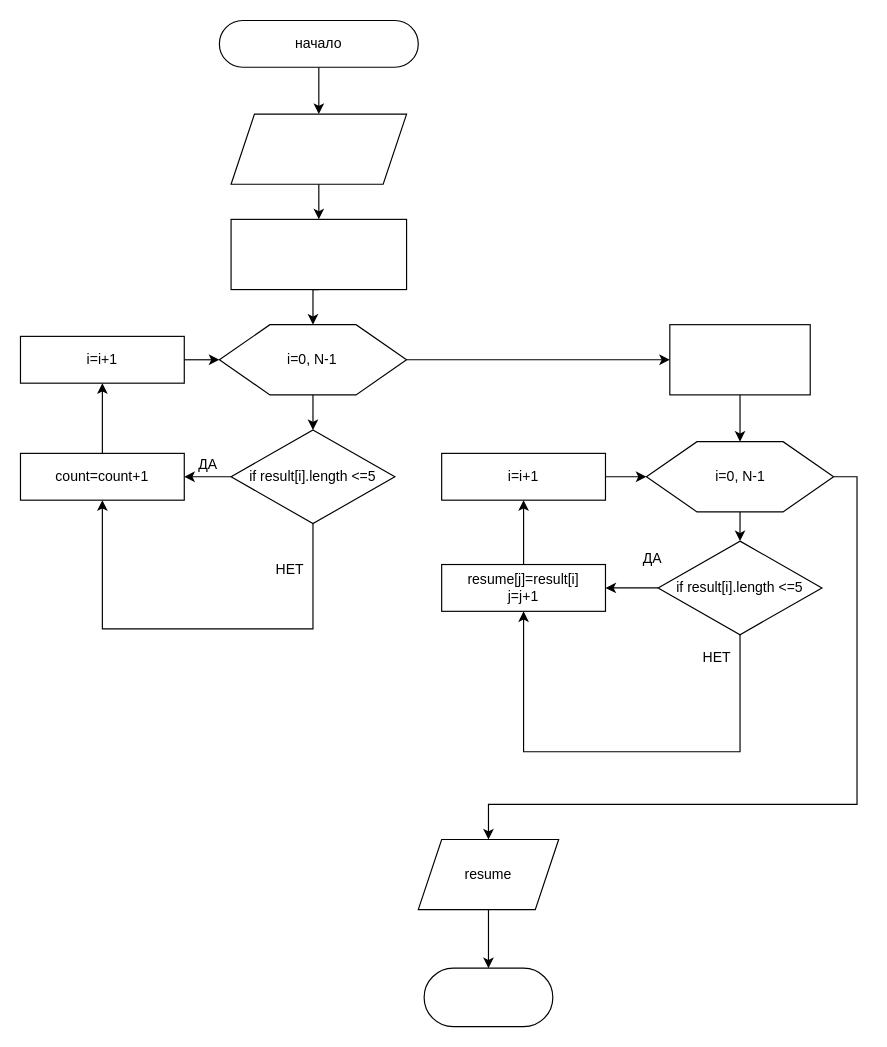
This 887x1047 diagram has some shape labels left out. The shapes that lost their labels are listed below. From the top down, each one's box as (x1, y1, x2, y2) in pixels, then its label:
(230, 113, 407, 184): result(N)
(230, 218, 407, 290): count =0 j=0
(669, 324, 810, 395): resume(count)
(423, 967, 553, 1027): конец
